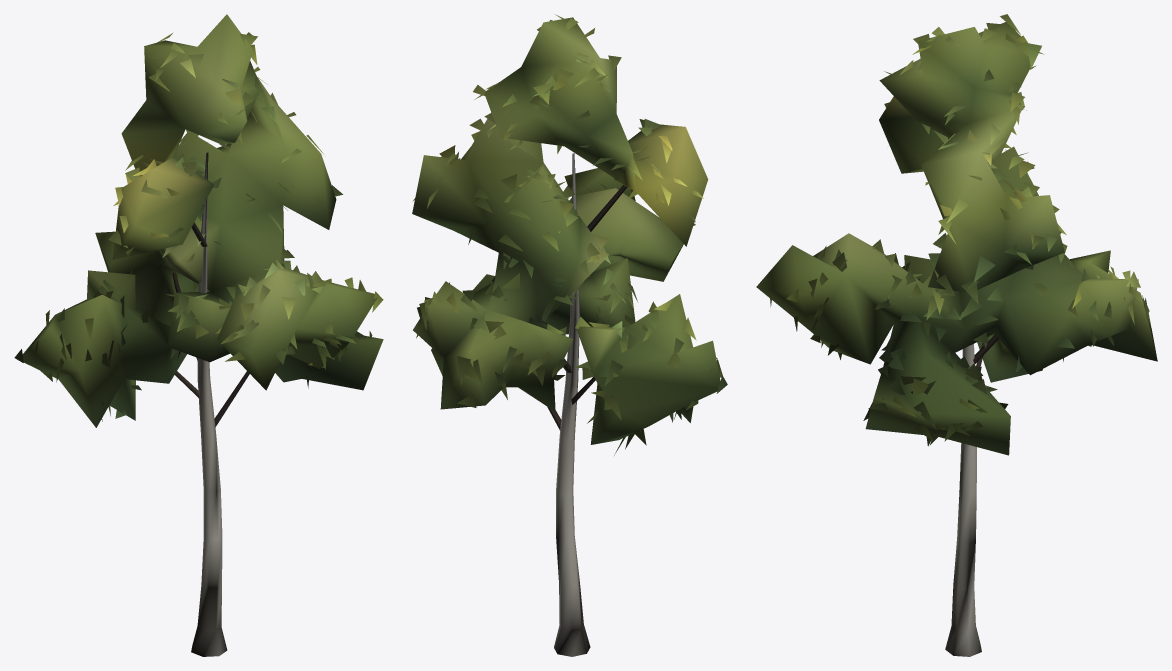
File: tree_c.glb
The picture shows the model from 3 angles, left to right: view 1: azimuth 30°, elevation 25°; view 2: azimuth 150°, elevation 25°; view 3: azimuth 270°, elevation 25°; orthographic projection.
Visible parts, largest first — view 1: TreeC; view 2: TreeC; view 3: TreeC.
Boxes of the visible parts, x1,y1,x2,y2 form: TreeC: [14, 14, 383, 656]; TreeC: [412, 14, 727, 656]; TreeC: [756, 14, 1157, 656].
Size of the model in its own units: 6.86 by 13.2 by 7.58.
